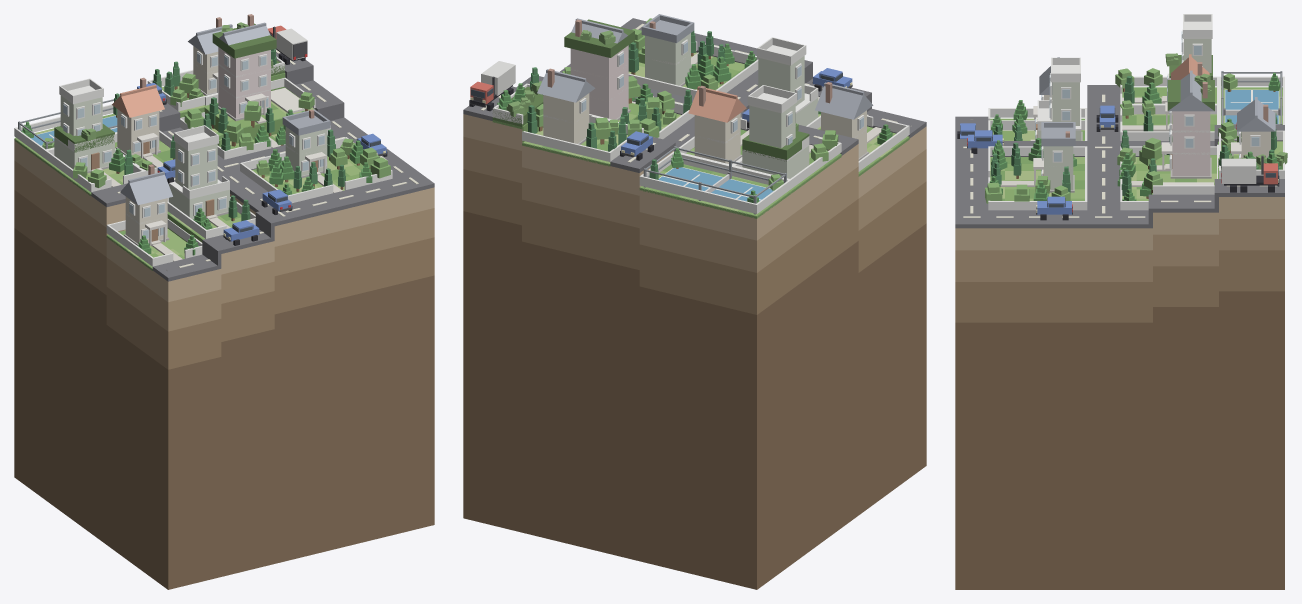
The model's file is block_5_greenroof_0.glb.
3 views of the same model, side by side, from view 1: azimuth 30°, elevation 25°; view 2: azimuth 150°, elevation 25°; view 3: azimuth 270°, elevation 25° (orthographic). The views are drawn at different scales.
Visible parts, largest first — view 1: Patch_UpperLeft_b07_GR, Bungalows_UpperLeft_b07_GR, Roads_UpperLeft_b07_GR, GR_Roof_Bungalows_UpperLeft_b07_GR, ULCar_019_GR, LawnSkirt_UpperLeft_b07_GR, RoadMarks_UpperLeft_b07_GR, ULCar_004_GR, ULCar_018_GR; view 2: Patch_UpperLeft_b07_GR, Bungalows_UpperLeft_b07_GR, Roads_UpperLeft_b07_GR, GR_Roof_Bungalows_UpperLeft_b07_GR, ULCar_019_GR, ULCar_017_GR; view 3: Patch_UpperLeft_b07_GR, Bungalows_UpperLeft_b07_GR, Roads_UpperLeft_b07_GR, ULCar_019_GR, GR_Roof_Bungalows_UpperLeft_b07_GR, RoadMarks_UpperLeft_b07_GR, ULCar_020_GR, ULCar_018_GR, ULCar_008_GR.
Boxes of the visible parts, left/top/right/bottom form: Patch_UpperLeft_b07_GR: left=14, top=140, right=434, bottom=589; Bungalows_UpperLeft_b07_GR: left=14, top=14, right=392, bottom=270; Roads_UpperLeft_b07_GR: left=91, top=52, right=434, bottom=281; GR_Roof_Bungalows_UpperLeft_b07_GR: left=54, top=23, right=284, bottom=152; ULCar_019_GR: left=268, top=25, right=307, bottom=64; LawnSkirt_UpperLeft_b07_GR: left=16, top=73, right=285, bottom=267; RoadMarks_UpperLeft_b07_GR: left=117, top=49, right=418, bottom=270; ULCar_004_GR: left=223, top=220, right=259, bottom=245; ULCar_018_GR: left=261, top=189, right=292, bottom=214; Patch_UpperLeft_b07_GR: left=463, top=114, right=926, bottom=589; Bungalows_UpperLeft_b07_GR: left=492, top=14, right=909, bottom=218; Roads_UpperLeft_b07_GR: left=463, top=18, right=926, bottom=172; GR_Roof_Bungalows_UpperLeft_b07_GR: left=492, top=19, right=809, bottom=161; ULCar_019_GR: left=469, top=61, right=515, bottom=111; ULCar_017_GR: left=620, top=131, right=653, bottom=160; Patch_UpperLeft_b07_GR: left=955, top=197, right=1284, bottom=589; Bungalows_UpperLeft_b07_GR: left=988, top=14, right=1284, bottom=210; Roads_UpperLeft_b07_GR: left=955, top=85, right=1284, bottom=228; ULCar_019_GR: left=1221, top=155, right=1279, bottom=192; GR_Roof_Bungalows_UpperLeft_b07_GR: left=1167, top=55, right=1282, bottom=169; RoadMarks_UpperLeft_b07_GR: left=963, top=94, right=1276, bottom=217; ULCar_020_GR: left=1036, top=196, right=1072, bottom=220; ULCar_018_GR: left=967, top=130, right=1003, bottom=153; ULCar_008_GR: left=1096, top=105, right=1118, bottom=131.
Size of the model in its own units: 9.61 by 15.01 by 9.58.
